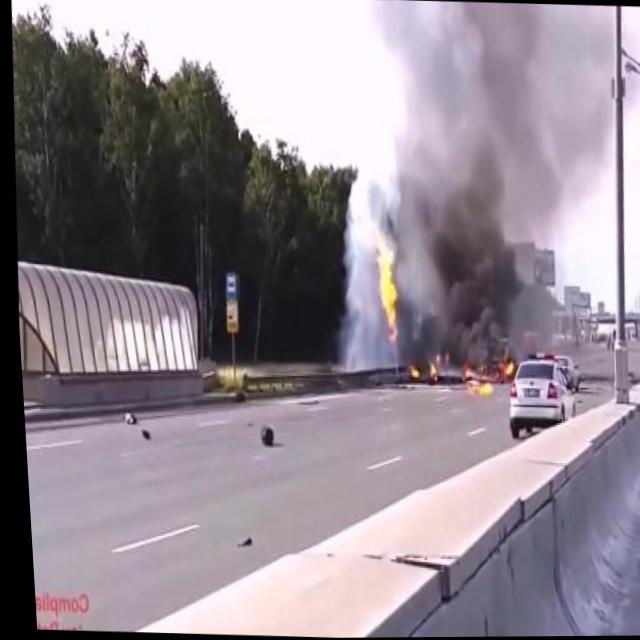fire: (362, 231, 400, 344), (452, 354, 512, 398), (398, 358, 435, 384)
